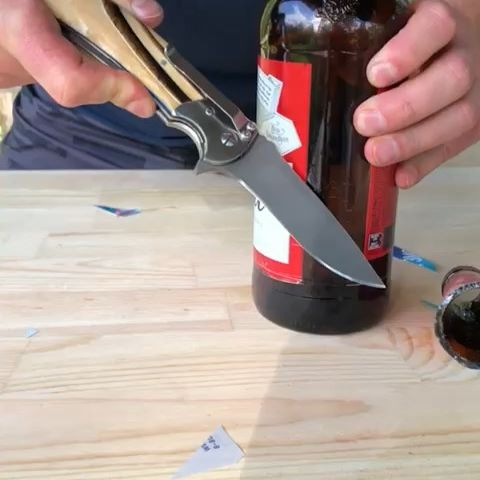knife: (45, 1, 386, 289)
